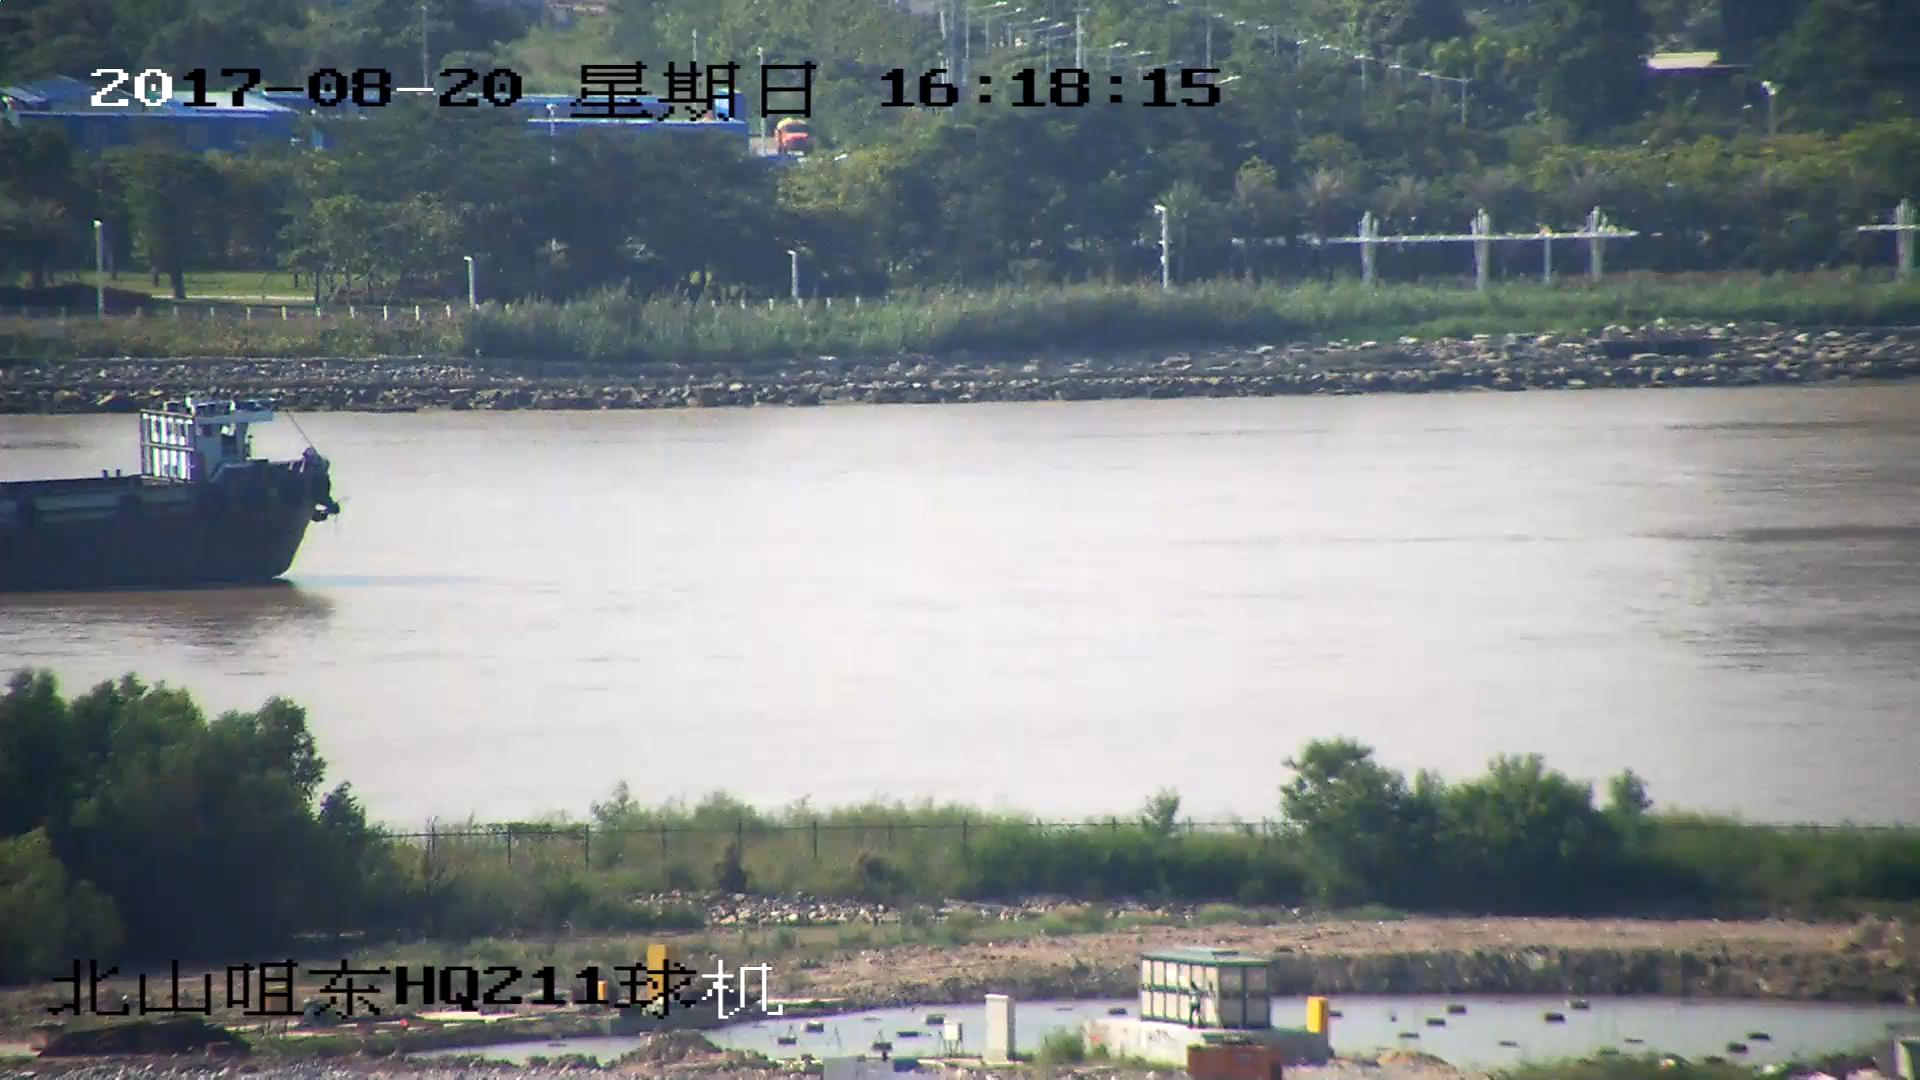general cargo ship: (1, 395, 339, 596)
